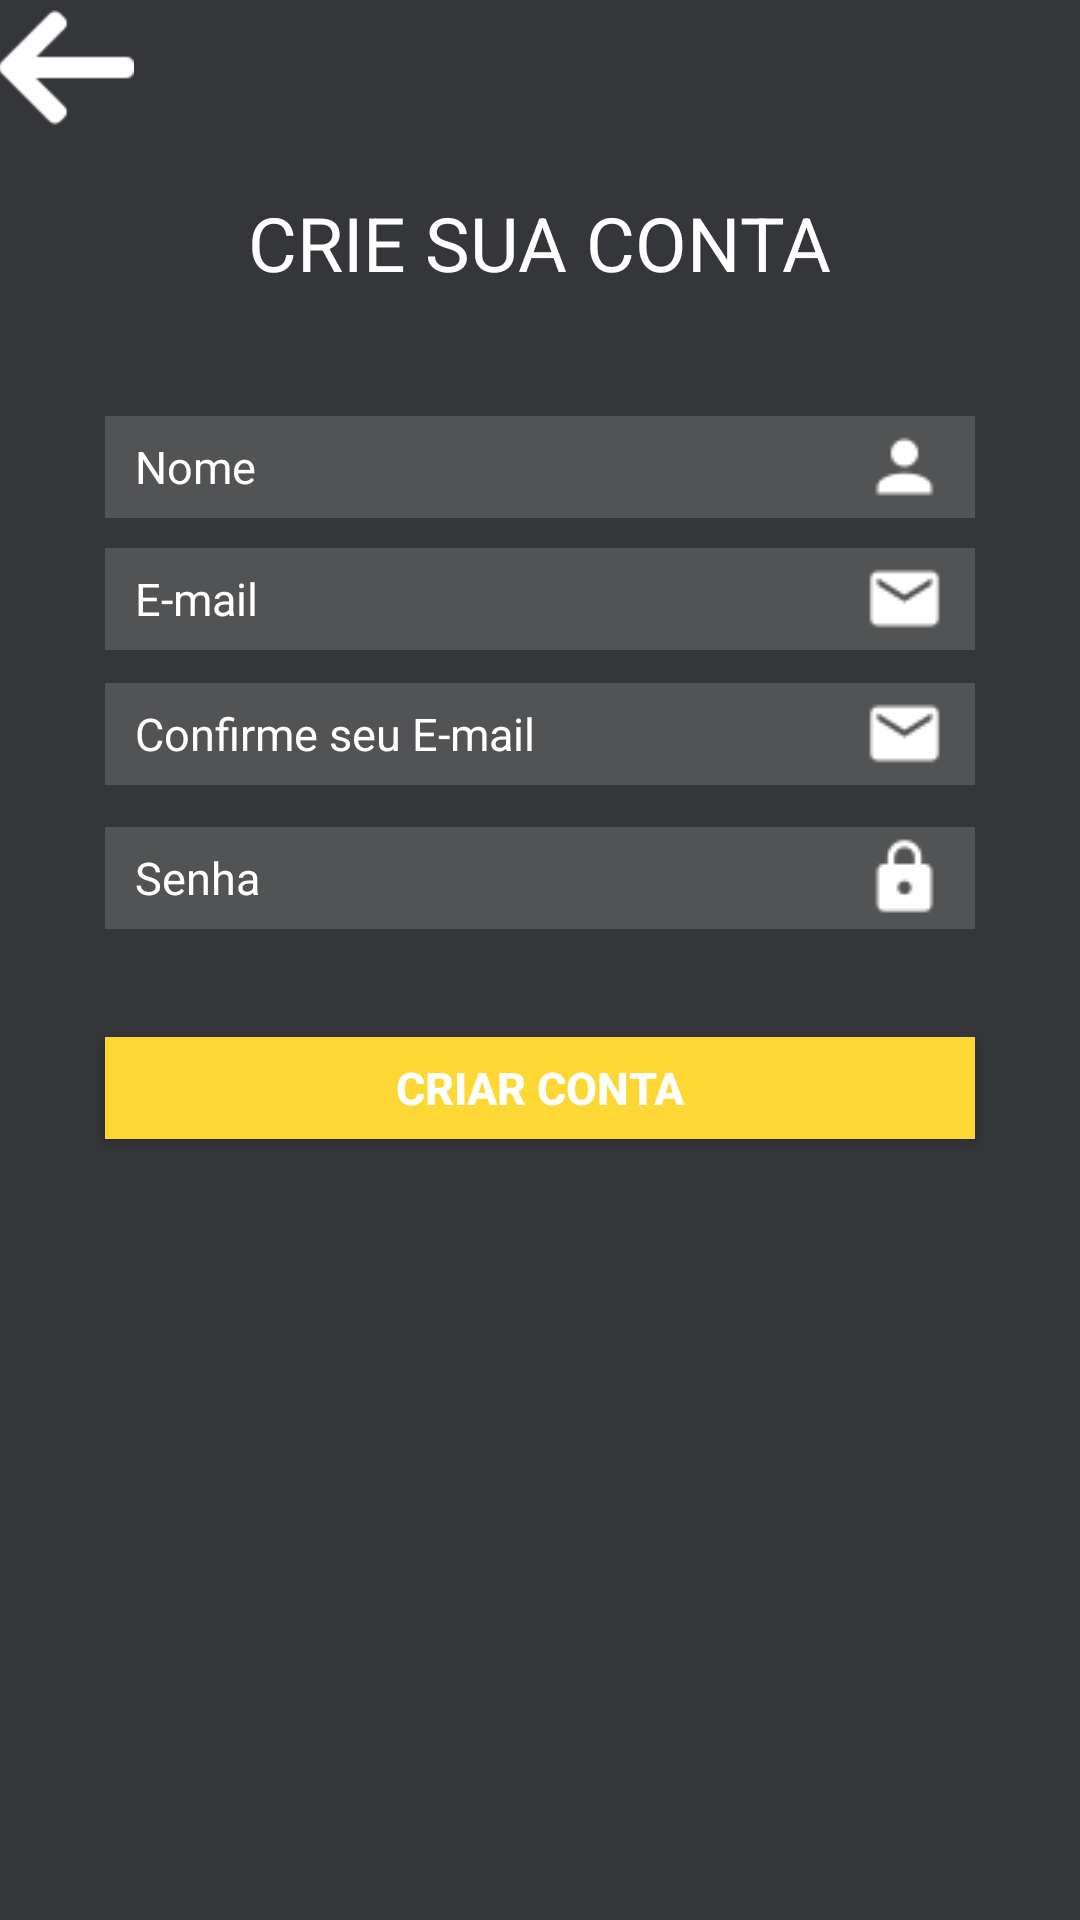

Icon click points for this 1080 × 1920 phone screenshot, format (x,y):
arrowleft: (67,67)
